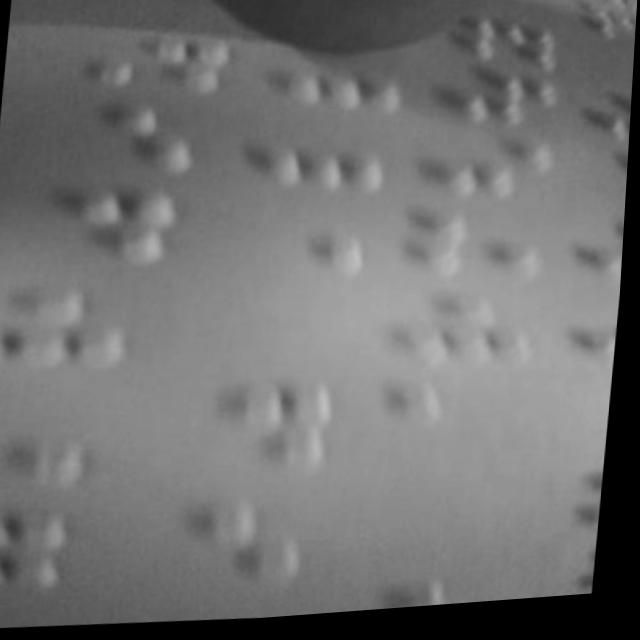braiile: (10, 182, 183, 281), (147, 503, 311, 604), (179, 384, 348, 481), (0, 283, 146, 386), (34, 94, 204, 182), (255, 111, 396, 202), (239, 205, 380, 288), (93, 27, 239, 106)
